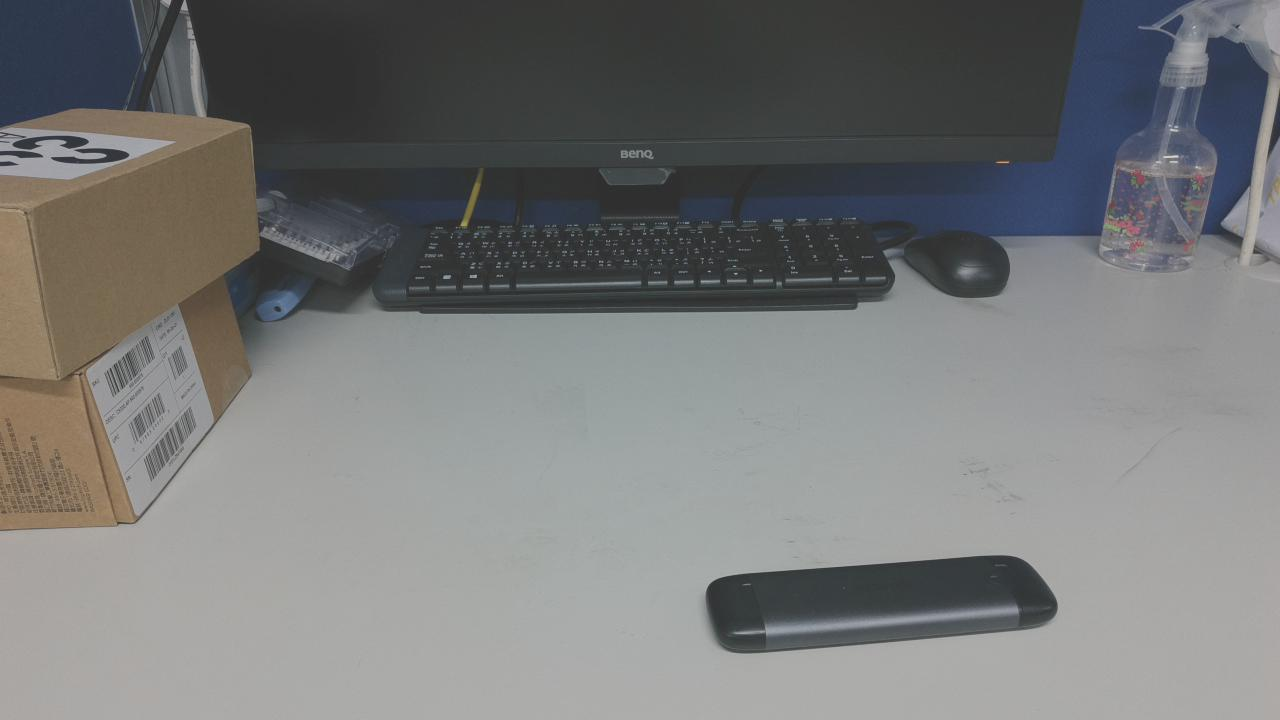blade: (101, 571, 278, 626)
grasp: (272, 531, 426, 611)
